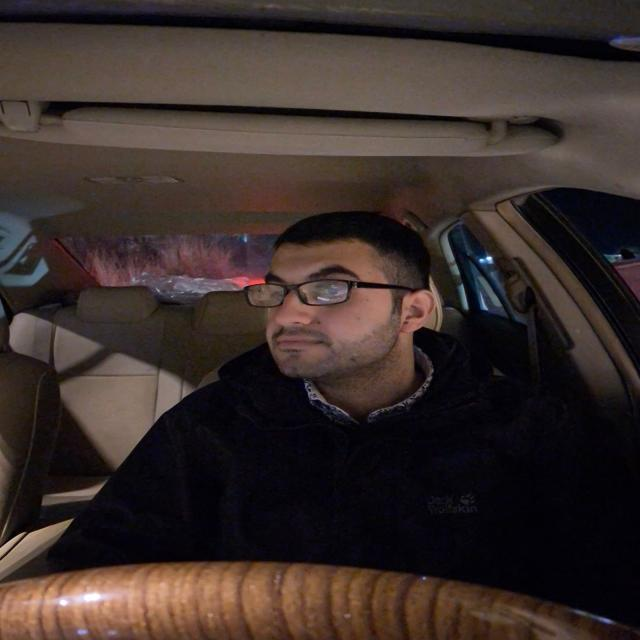person: (260, 216, 435, 377)
